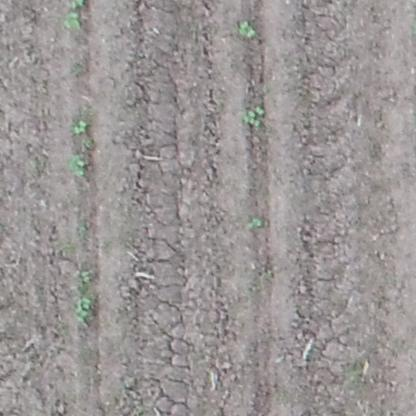vc: (241, 102, 264, 130), (72, 295, 92, 325), (236, 18, 259, 41), (68, 153, 86, 178), (63, 11, 81, 31), (71, 115, 87, 137), (247, 215, 264, 231)
